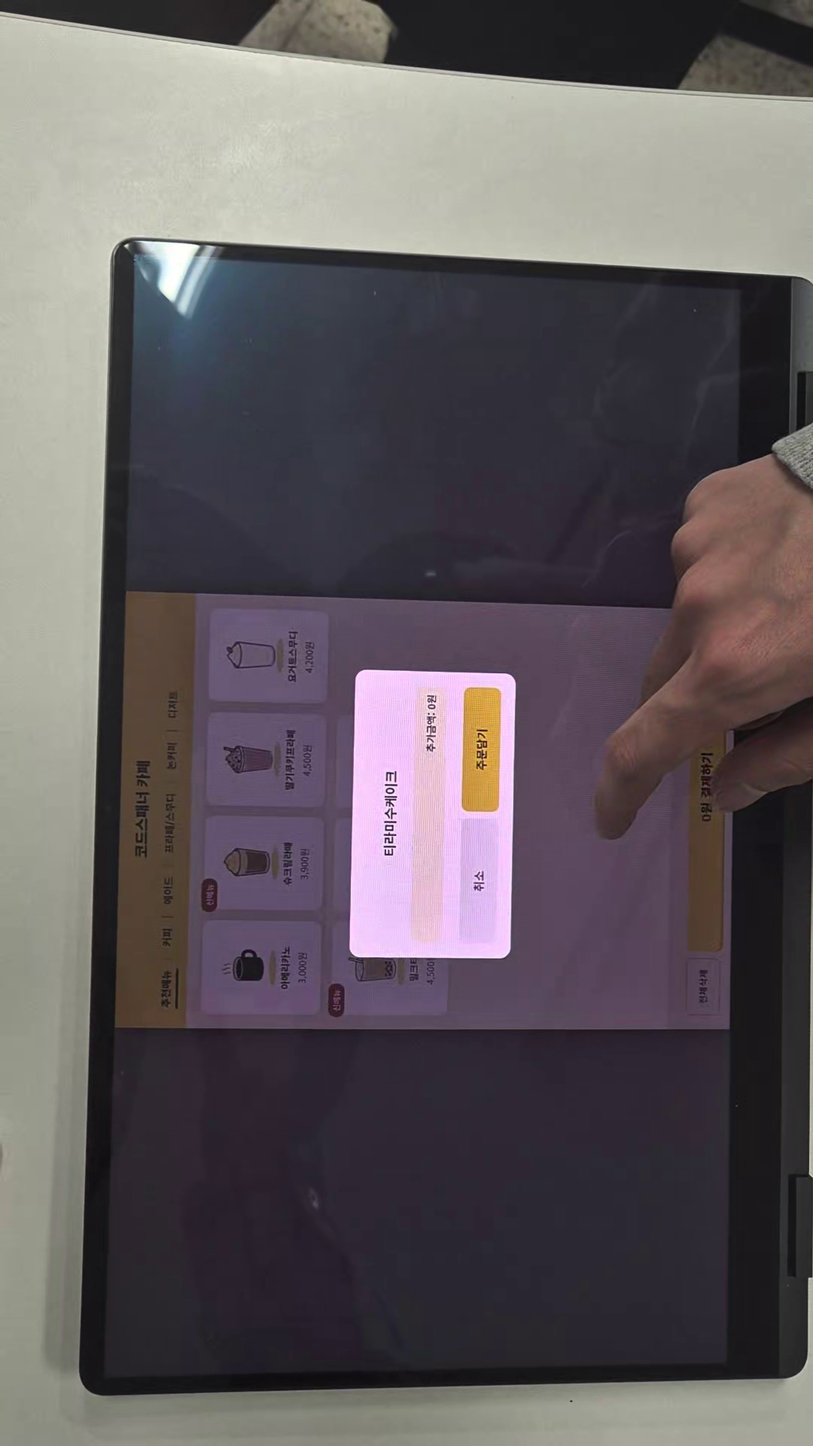action_button: (462, 688, 499, 813), (461, 820, 498, 944)
popup_modal: (349, 671, 516, 959)
